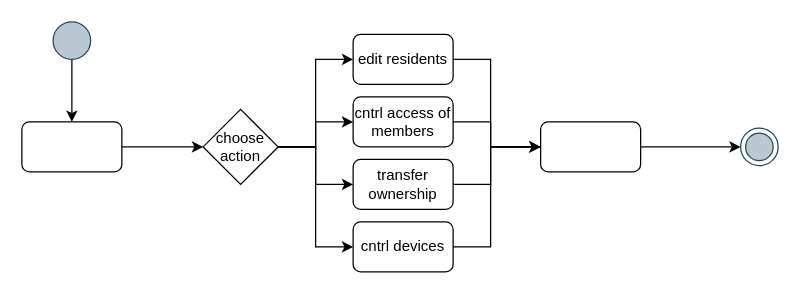
Image size: 800x294. Some labels were removed from this diagram. Each missing label, with the centre of its shape:
"pannel" belongs at (x=71, y=146).
"save changes" belongs at (x=590, y=146).
